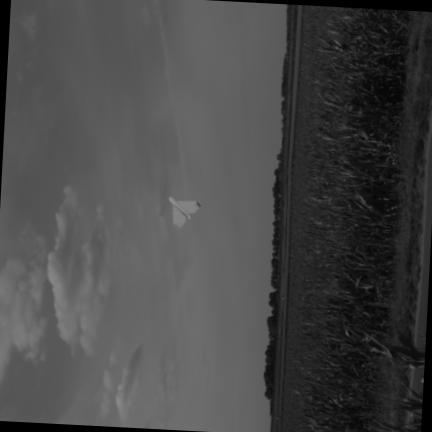Shahed: (169, 197, 200, 228)
